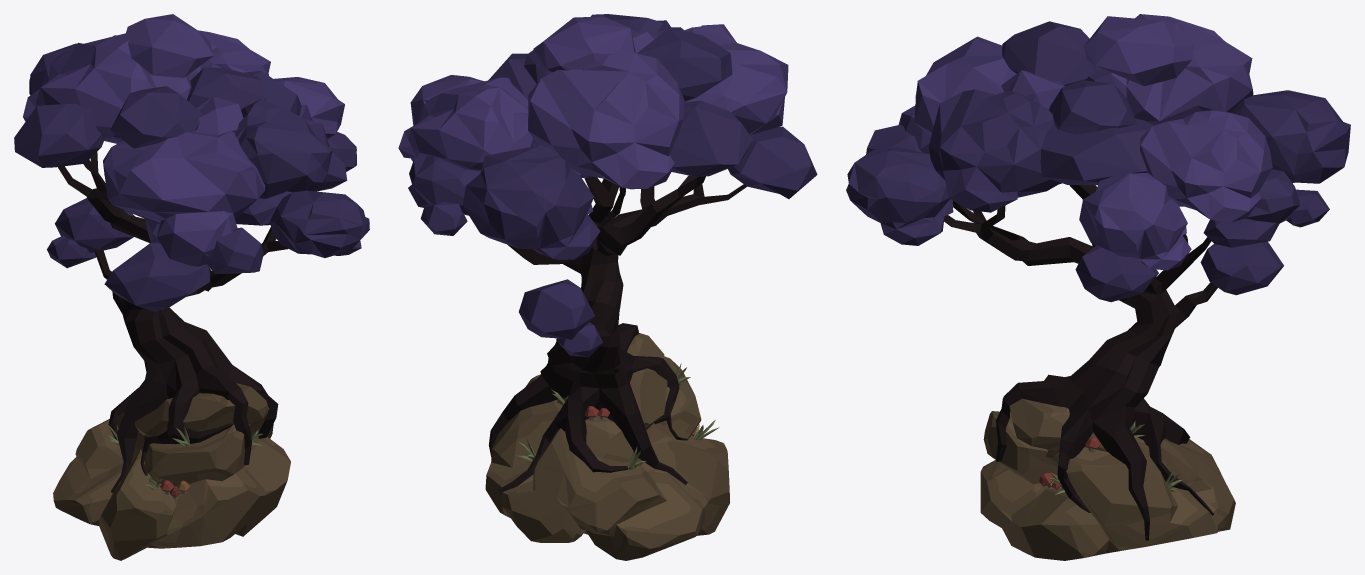
File: SM_Env_Big_Tree_01.glb
3 renders of one model, left to right at view 1: azimuth 30°, elevation 25°; view 2: azimuth 150°, elevation 25°; view 3: azimuth 270°, elevation 25°, orthographic. The views are drawn at different scales.
Parts seen in each view (by area): view 1: SM_Env_Big_Tree_01; view 2: SM_Env_Big_Tree_01; view 3: SM_Env_Big_Tree_01.
Boxes of the visible parts, <box> form: SM_Env_Big_Tree_01: <box>14,14,369,560</box>; SM_Env_Big_Tree_01: <box>398,14,817,560</box>; SM_Env_Big_Tree_01: <box>846,14,1350,560</box>.
Bounding box in the file's own units: 8.76 × 12.74 × 10.98.
1 material, 1 textured.
